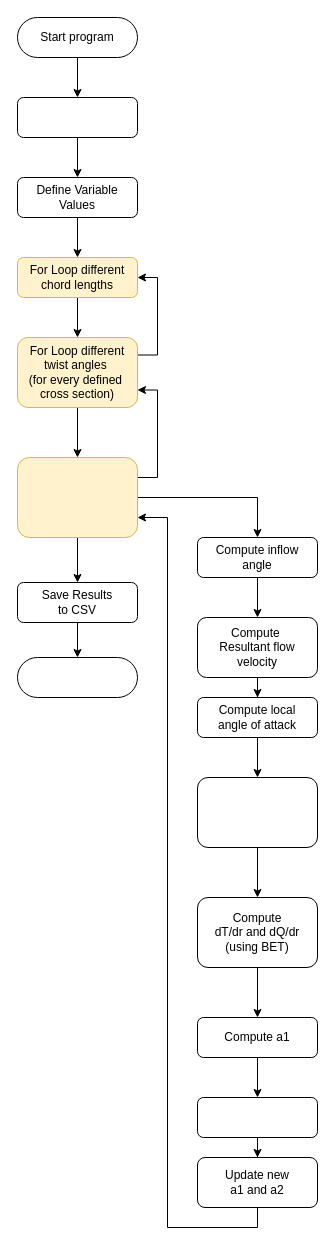
The diagram is 335 pixels wide and 1253 high, and some of its shapes have lost their labels. The centre of each missing label's shape, as x and y in pixels:
"Compute a2" belongs at point 257,1117.
"Compute coefficients of lift and drag" belongs at point 257,812.
"Define Constant Values" belongs at point 77,117.
"End program" belongs at point 77,677.
"For Loop convergence (until a1 and a2 stabilize)" belongs at point 77,497.
